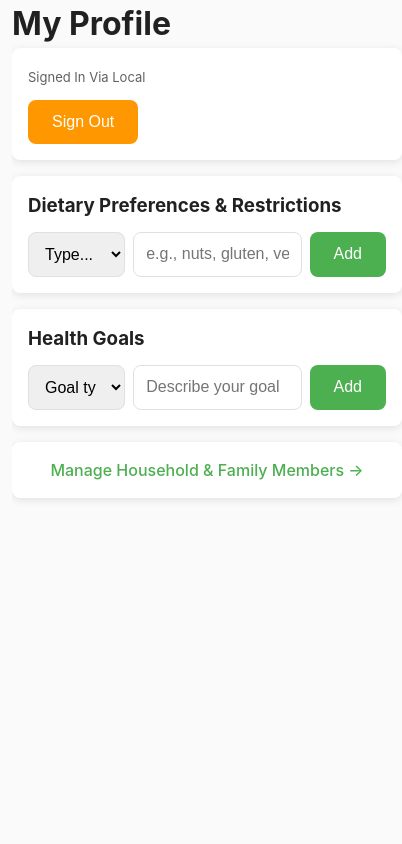
Test: ProfileView › adds a dietary preference via form submission
Note: Set the select and input values
Select "Allergy" in the dropdown below "Dietary Preferences & Restrictions": [77, 254] box top-left (28, 232), bottom-right (125, 277)
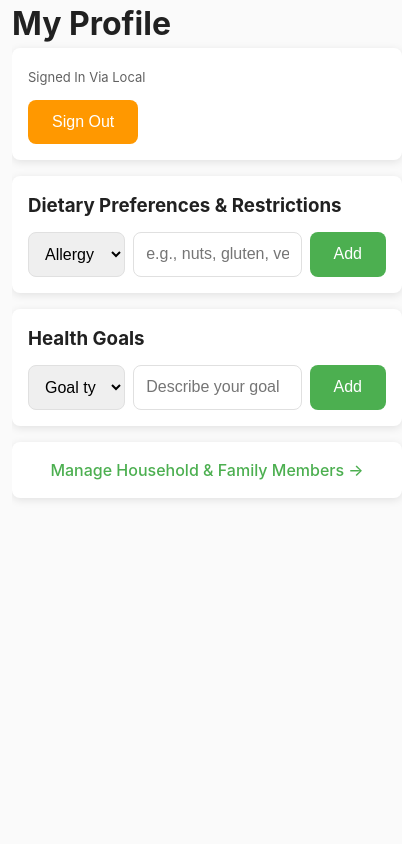
In the field with placeholder "e.g., nuts, gluten, vegan": [217, 254] box top-left (133, 232), bottom-right (302, 277), type "nuts"
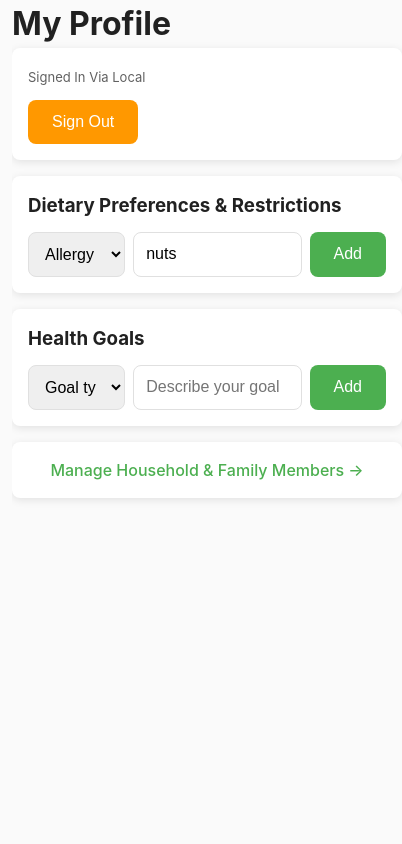
Submit the form with class "add-form" below "Dietary Preferences & Restrictions", box top-left (28, 232), bottom-right (386, 277)
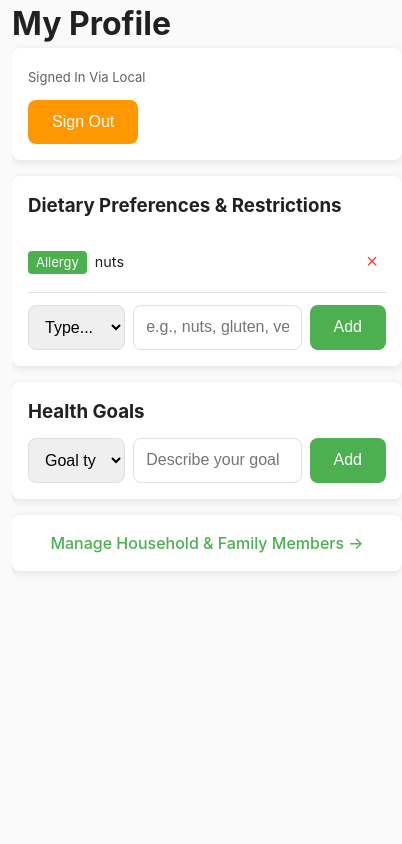
Check: the text "allergy" is shown, box top-left (28, 251), bottom-right (87, 274)
Check: the text "nuts" is shown, box top-left (95, 253), bottom-right (124, 270)
